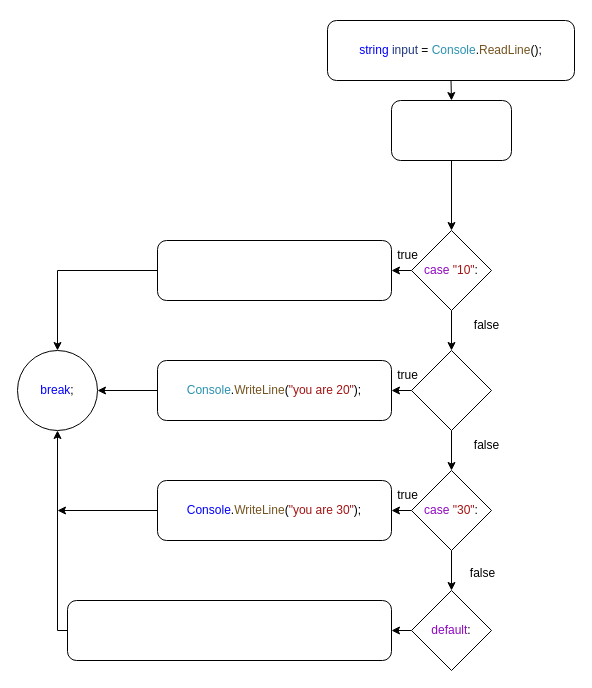
Image size: 592x688. Some labels were removed from this diagram. Each missing label, with the centre of its shape:
case "20" :: (451,390)
Console . WriteLine ( "something else: " + input );: (229,630)
Console . WriteLine ( "you are 10" );: (274,270)
switch ( input ): (451,130)
